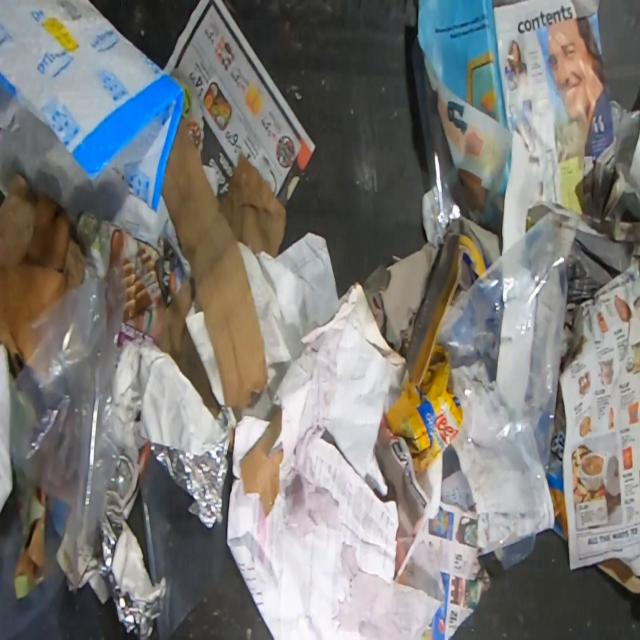cardboard: (162, 115, 289, 414), (375, 232, 486, 497), (0, 175, 95, 372), (156, 276, 222, 421), (240, 407, 284, 516)
metal: (99, 451, 165, 639), (150, 430, 231, 529)
soft_plastic: (439, 208, 570, 568), (0, 0, 184, 236), (10, 222, 127, 584), (138, 442, 230, 639), (115, 338, 228, 459), (412, 36, 468, 249)
